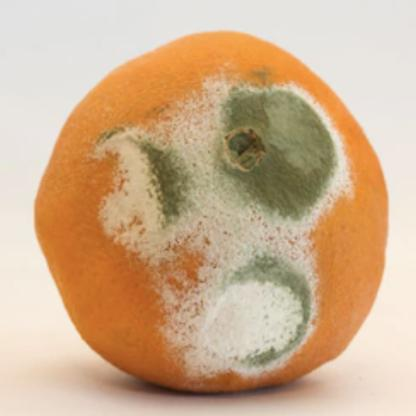rotten: (32, 34, 391, 393)
